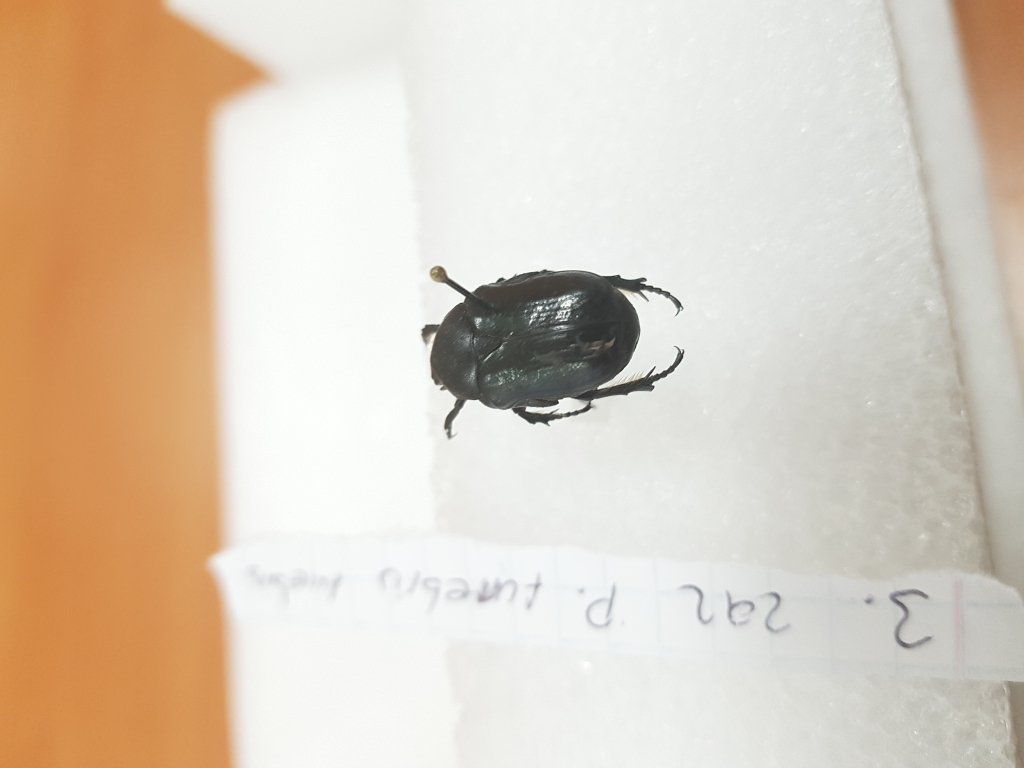Protaetia_funebris: (421, 265, 694, 441)
